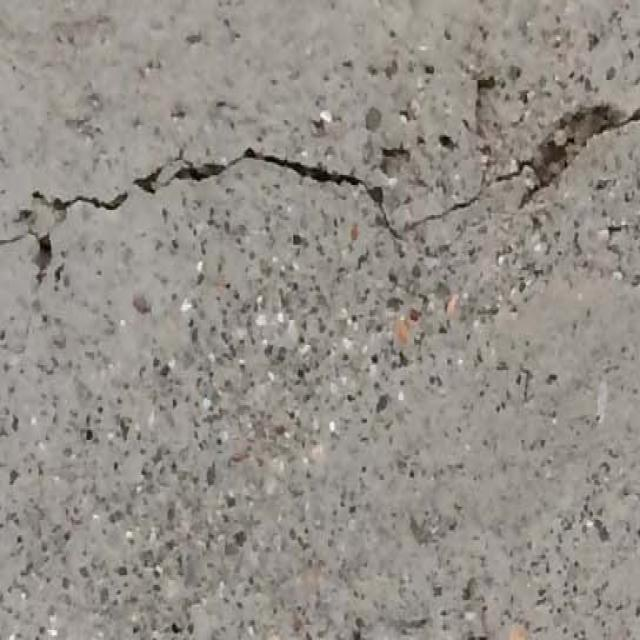crack: (1, 76, 639, 288)
